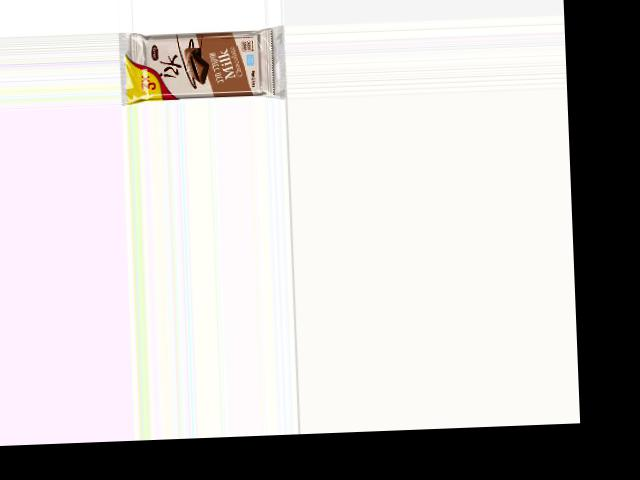chocolate: (118, 25, 271, 105)
